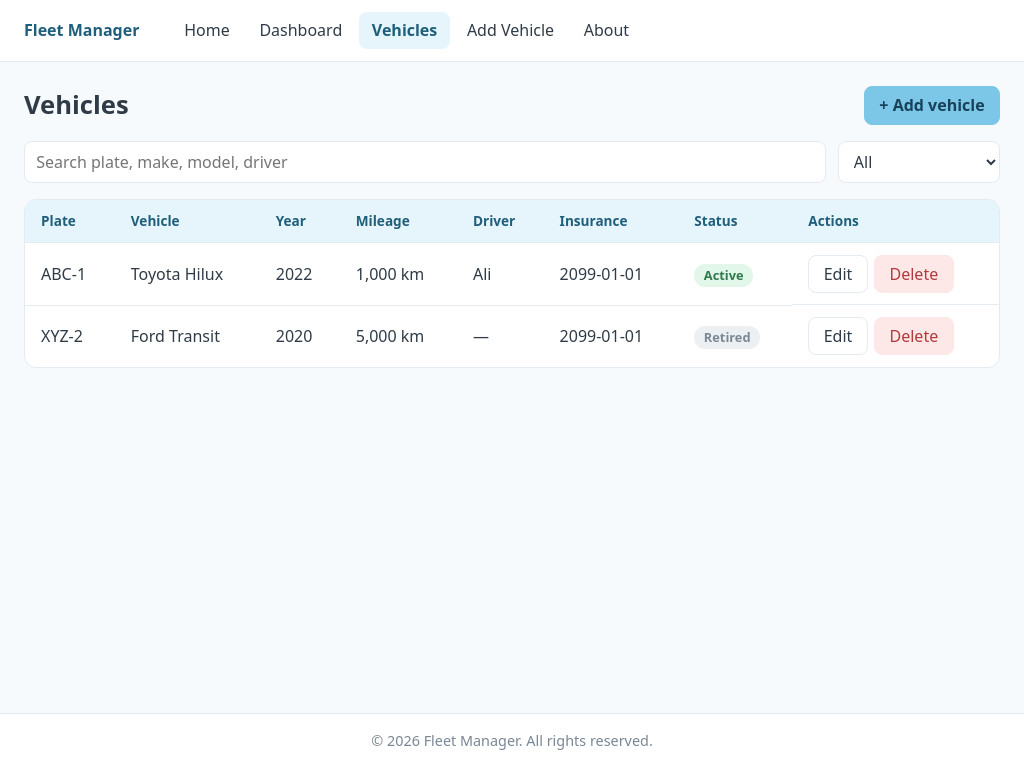
Test: vehicles list › deletes a vehicle after confirmation
Click the button "Delete" in the row of "ABC-1": (914, 274) [874, 254, 954, 293]
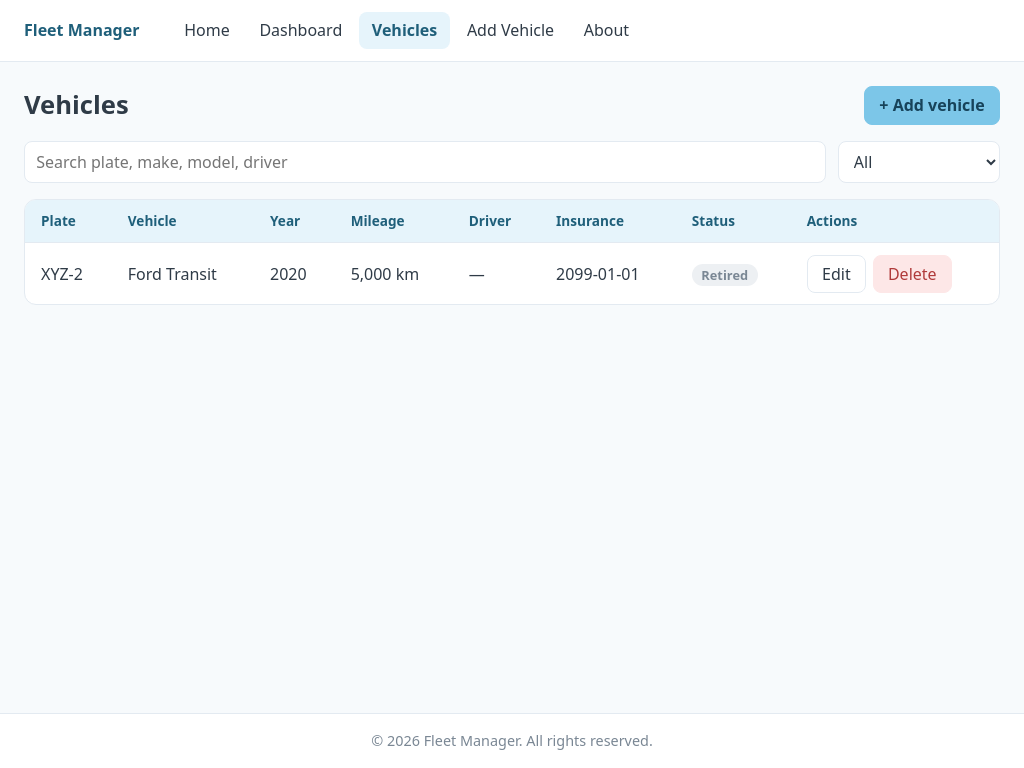
Expected: the text "ABC-1" is gone
